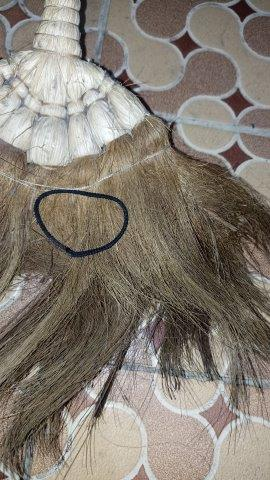karet: (33, 189, 129, 258)
